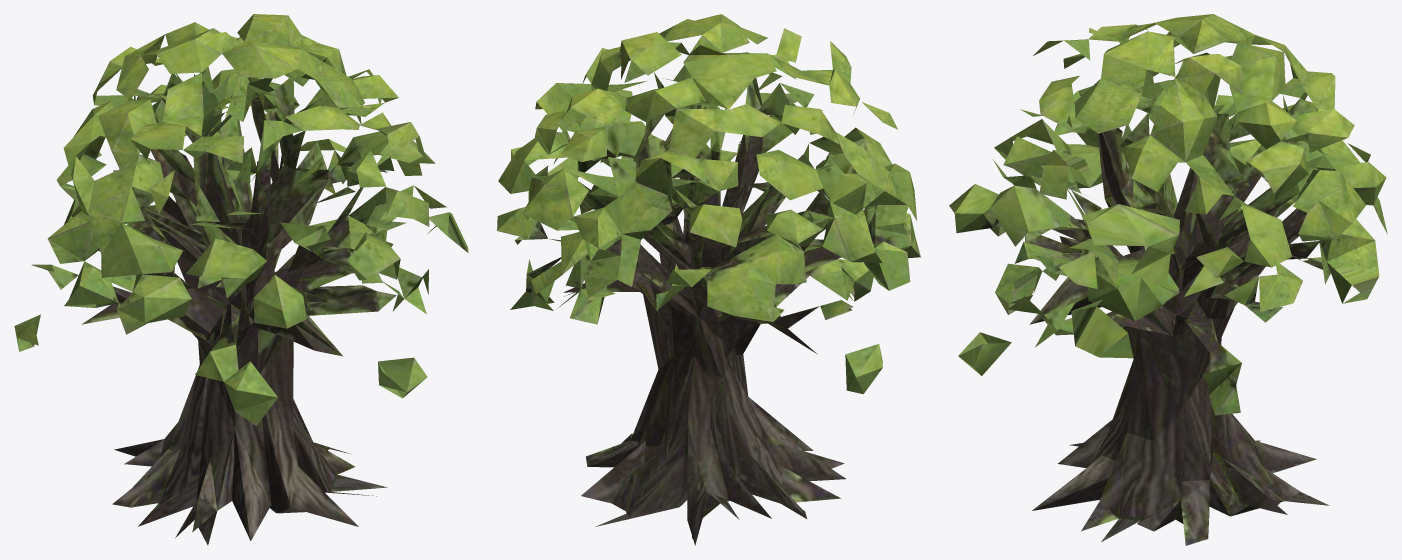
The model's file is oak.glb.
3 renders of one model, left to right at view 1: azimuth 30°, elevation 25°; view 2: azimuth 150°, elevation 25°; view 3: azimuth 270°, elevation 25°, orthographic.
Visible parts, largest first — view 1: output_unwrapped; view 2: output_unwrapped; view 3: output_unwrapped.
Boxes of the visible parts, <box> form: output_unwrapped: <box>14,14,468,545</box>; output_unwrapped: <box>497,14,920,545</box>; output_unwrapped: <box>949,14,1387,545</box>.
Size of the model in its own units: 1.72 by 1.89 by 1.64.
Materials: 1 (1 with a texture image).
